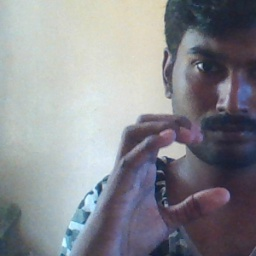C: (117, 107, 236, 230)
